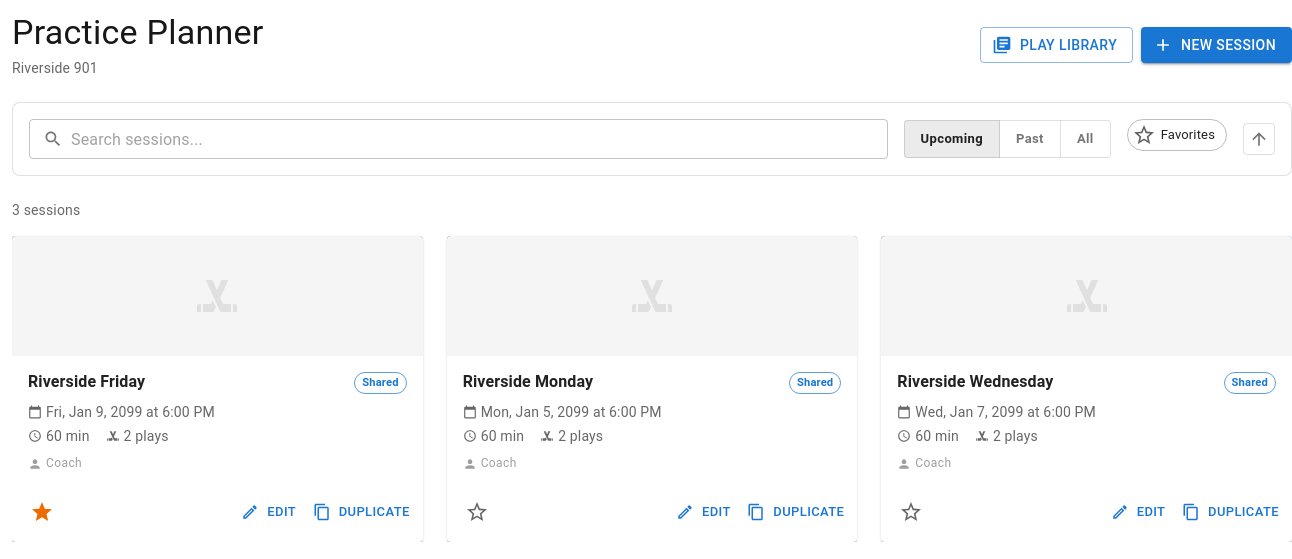
Scenario: PracticePlannerList favorites › filters to favorites, and says so when there are none
What coordinates should you click on to do the following:
click the button "Favorites"
I would click on:
 (1177, 135)
Its box is [1127,119,1227,151].
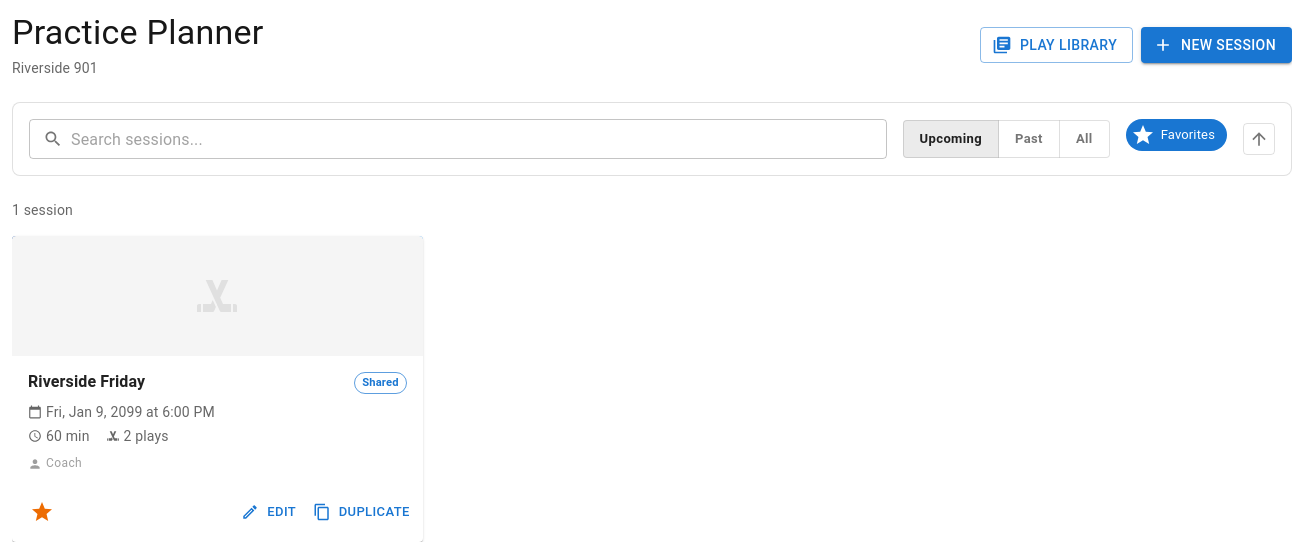
What coordinates should you click on to do the following:
click the button named "Favorite Riverside Friday"
I would click on:
 (42, 512)
Its box is [20,490,64,534].
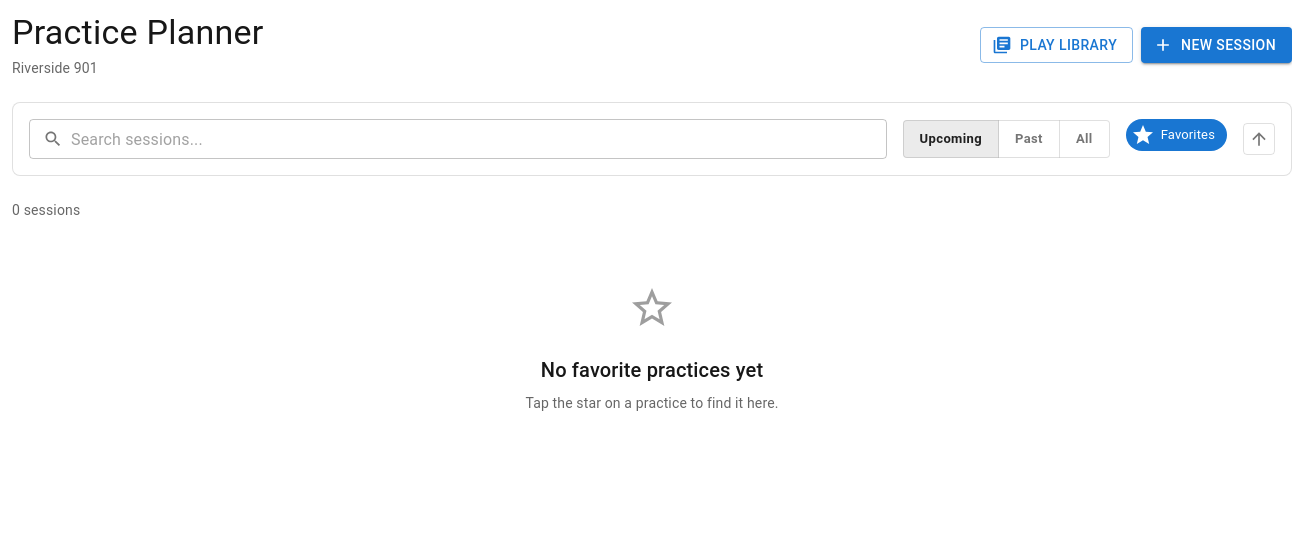
Check: the link "Riverside Monday" is not shown
Check: the text "No favorite practices yet" is shown, box [541,354,763,386]
